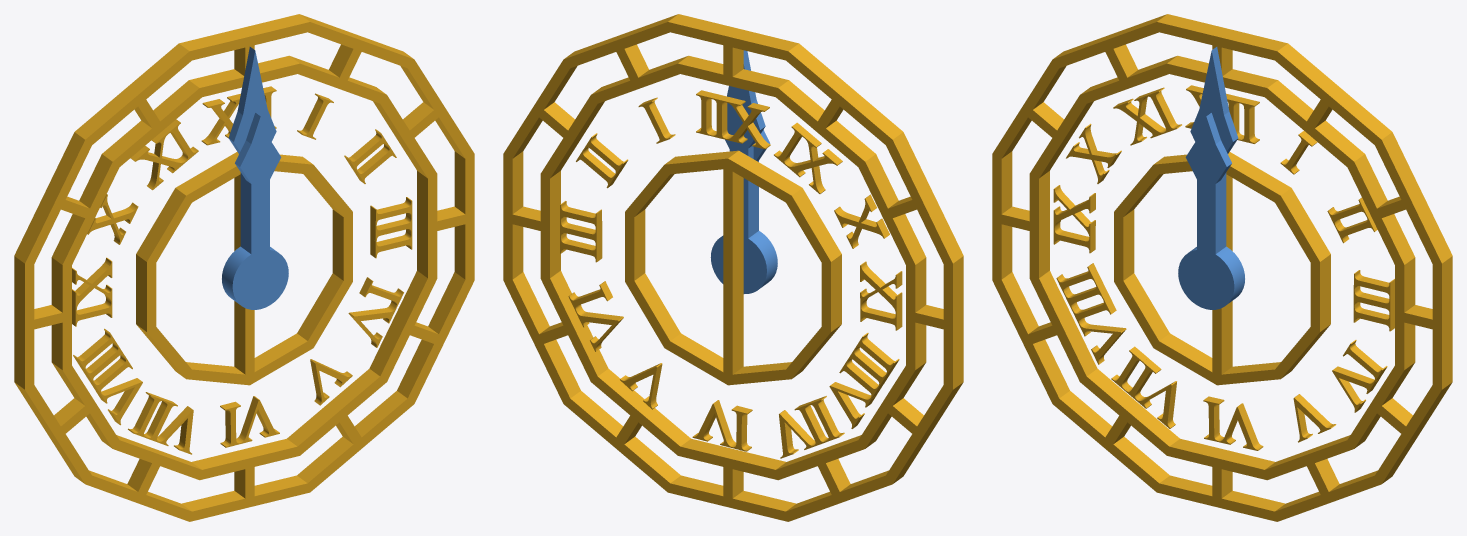
The model's file is roman_clock.fbx.
The picture shows the model from 3 angles, left to right: view 1: azimuth 30°, elevation 25°; view 2: azimuth 150°, elevation 25°; view 3: azimuth 330°, elevation 25°; orthographic projection.
Parts seen in each view (by area): view 1: outerclock, gear v7, innerclock, short_hand, long_hand; view 2: outerclock, gear v7, innerclock, long_hand, short_hand; view 3: outerclock, gear v7, innerclock, short_hand, long_hand.
Part boxes in pixels (<box>): outerclock: <box>14,14,474,521</box>; gear v7: <box>72,86,412,454</box>; innerclock: <box>136,152,352,385</box>; short_hand: <box>227,113,288,309</box>; long_hand: <box>222,47,276,300</box>; outerclock: <box>503,14,963,521</box>; gear v7: <box>560,90,902,458</box>; innerclock: <box>625,150,841,385</box>; long_hand: <box>710,50,772,293</box>; short_hand: <box>725,130,777,284</box>; outerclock: <box>992,14,1452,521</box>; gear v7: <box>1053,85,1394,450</box>; innerclock: <box>1114,152,1330,385</box>; short_hand: <box>1178,113,1239,309</box>; long_hand: <box>1190,47,1244,299</box>.
Size of the model in its own units: 240 by 240 by 20.
